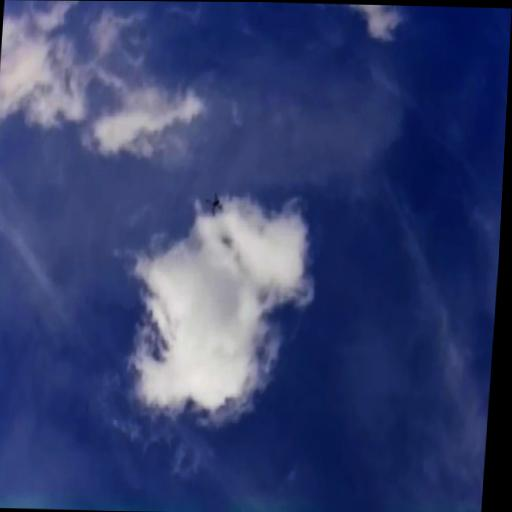drones: (203, 186, 228, 223)
